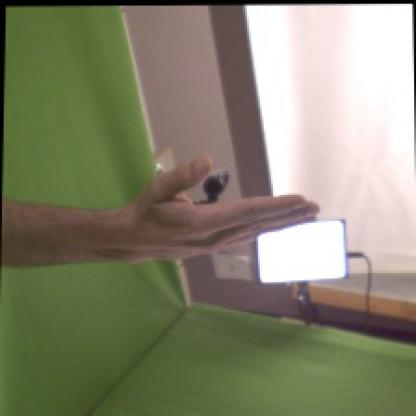Hand: (105, 157, 322, 266)
